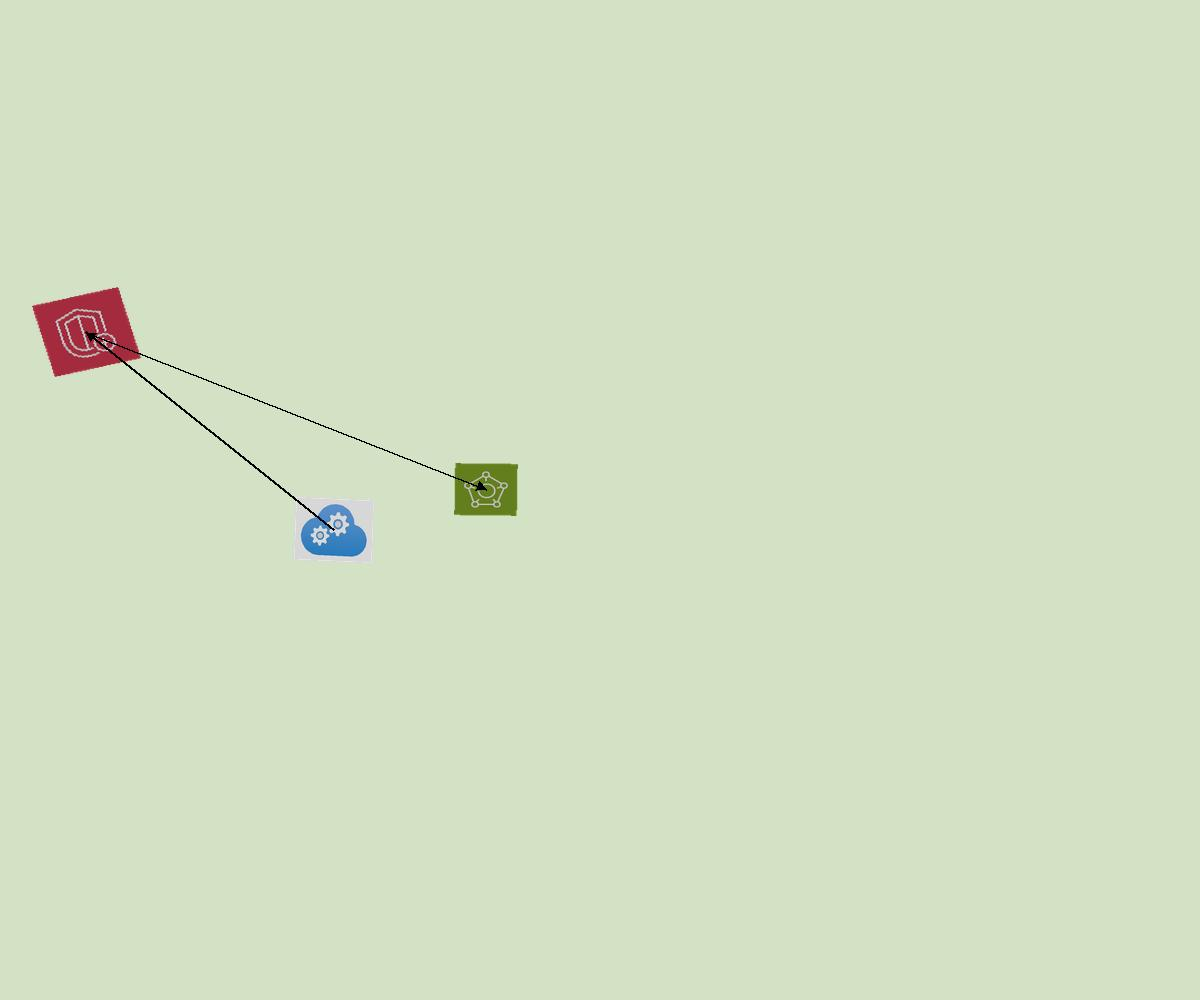AWS-Backup: (454, 463, 518, 516)
AWS-Shield: (32, 287, 141, 377)
Azure_cloud_services: (293, 496, 375, 564)
